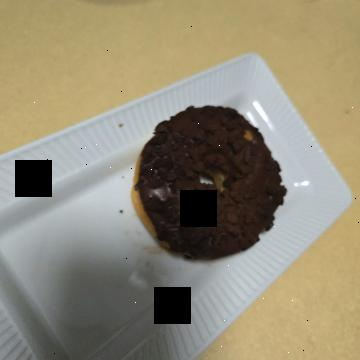doughnut: (91, 64, 265, 248)
